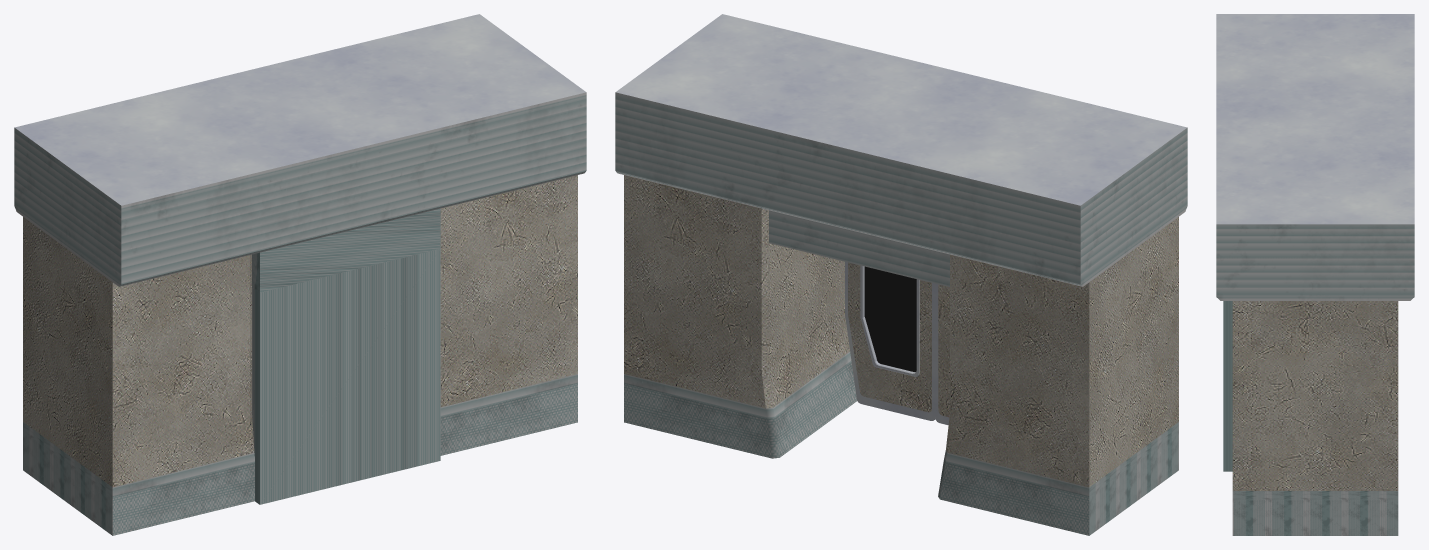
The model's file is MetroEndBack.fbx.
3 renders of one model, left to right at view 1: azimuth 30°, elevation 25°; view 2: azimuth 150°, elevation 25°; view 3: azimuth 270°, elevation 25°, orthographic. The views are drawn at different scales.
Parts seen in each view (by area): view 1: MetroEndBack; view 2: MetroEndBack; view 3: MetroEndBack.
Boxes of the visible parts, x1,y1,x2,y2 form: MetroEndBack: (14,14,586,535); MetroEndBack: (615,14,1187,535); MetroEndBack: (1216,14,1414,535).
Size of the model in its own units: 600 by 415 by 239.
7 materials, 6 textured.
